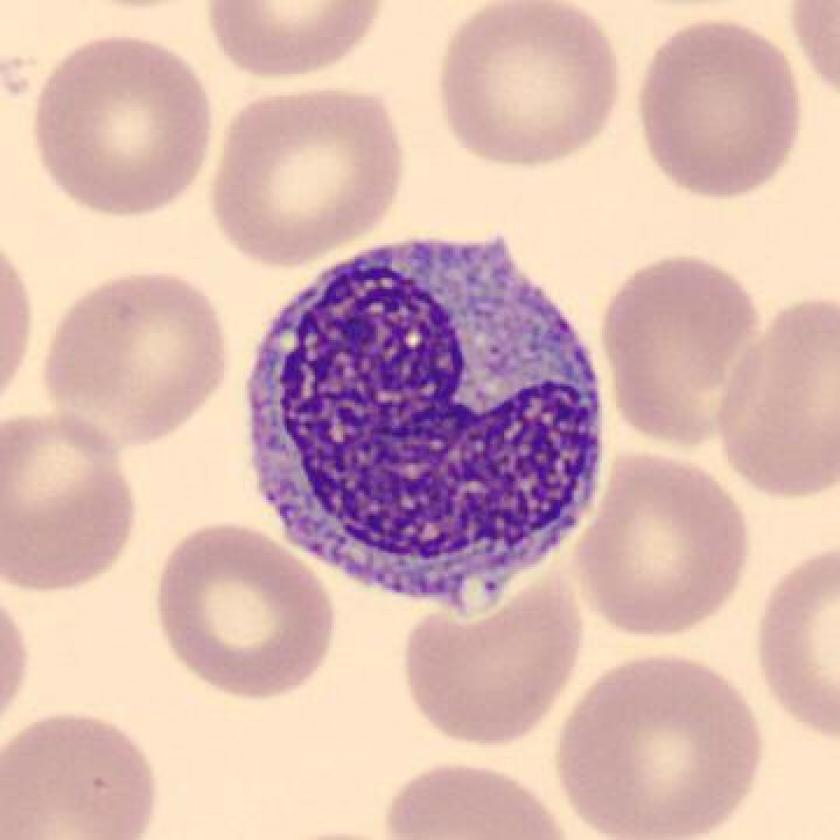monocyte: (223, 219, 633, 628)
